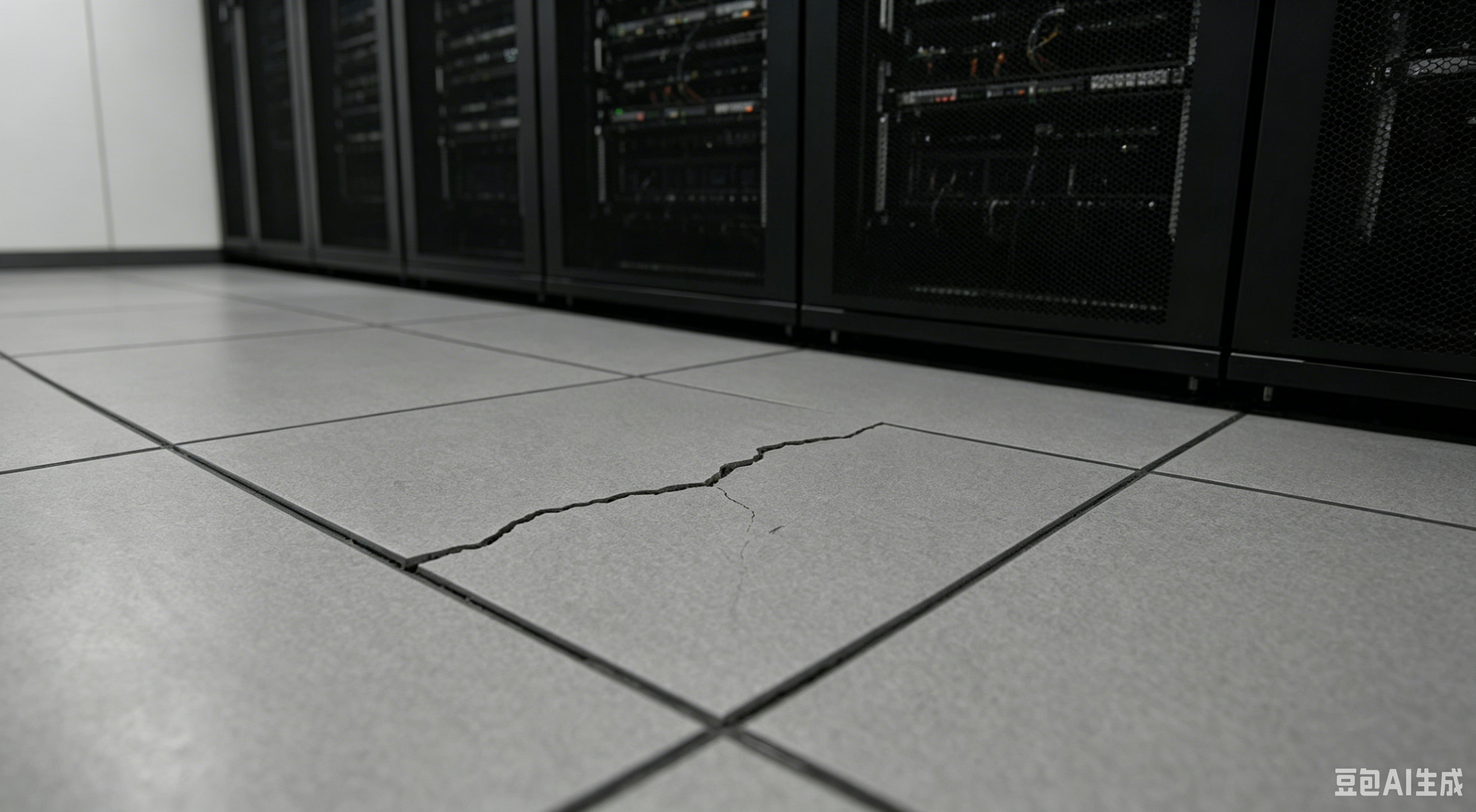floor_defect: (492, 487, 724, 524), (727, 497, 774, 655), (402, 525, 521, 566), (740, 425, 907, 452), (689, 452, 786, 482)
